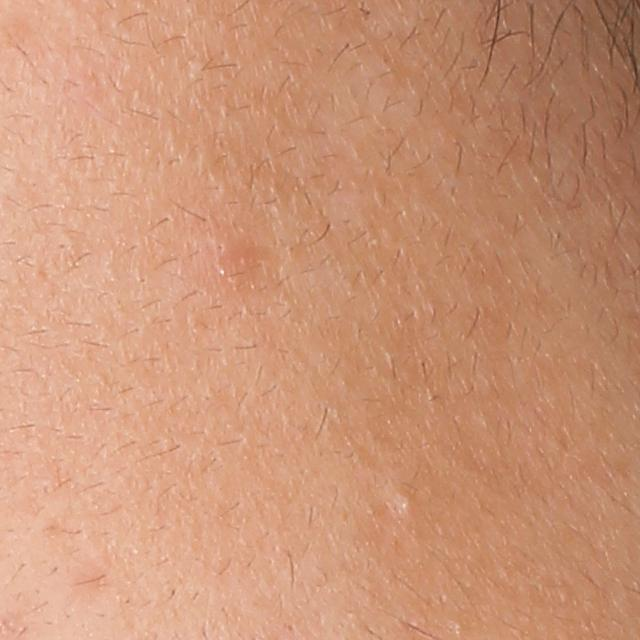comedo: (384, 489, 425, 519)
